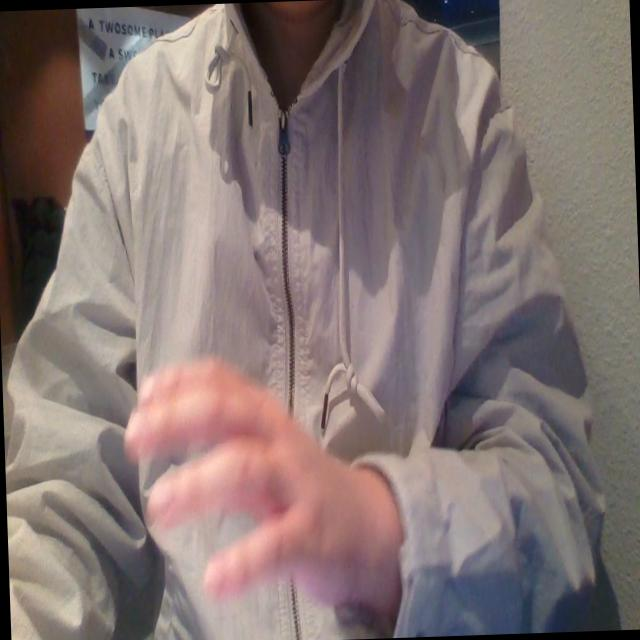hand: (126, 324, 368, 621)
